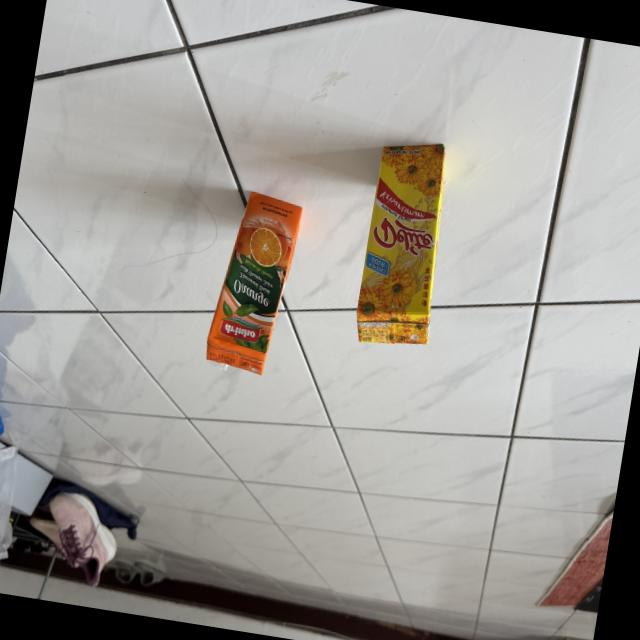drink_carton: (344, 128, 464, 364), (194, 180, 313, 390)
